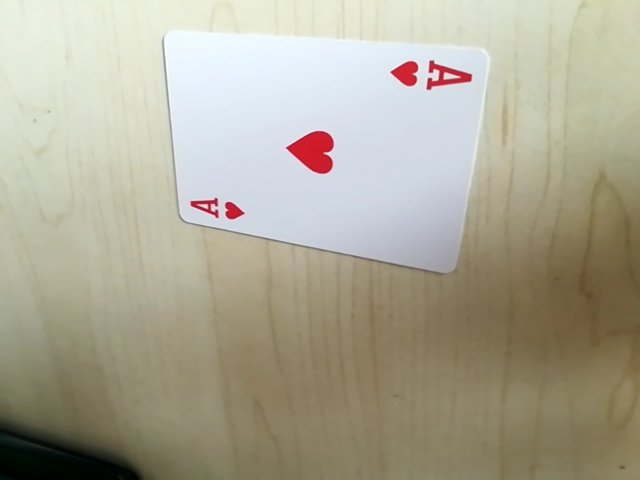hx a: (388, 53, 474, 100), (182, 189, 253, 226)
